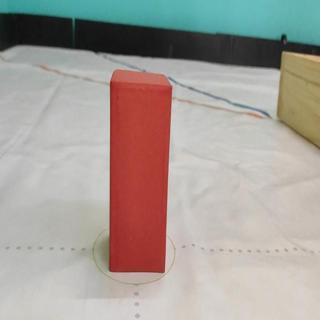redbox: (107, 67, 175, 275)
